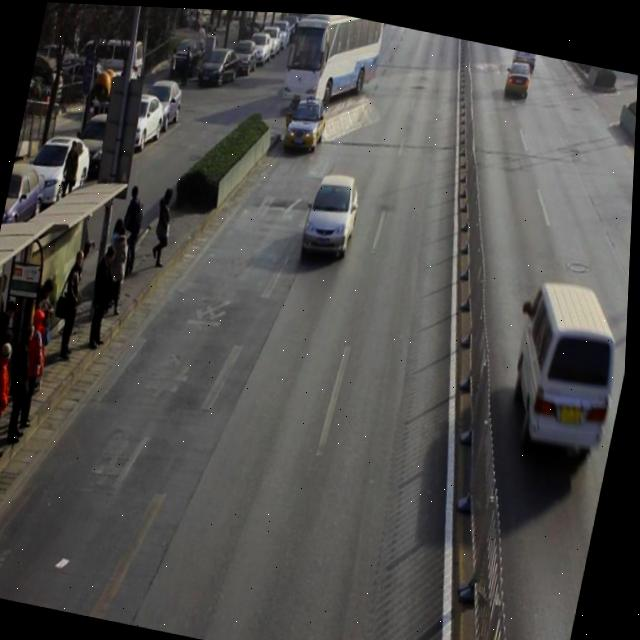car: (301, 165, 367, 258), (284, 91, 330, 154), (503, 53, 535, 97)
truck: (504, 271, 631, 464)
van: (281, 10, 386, 106)
